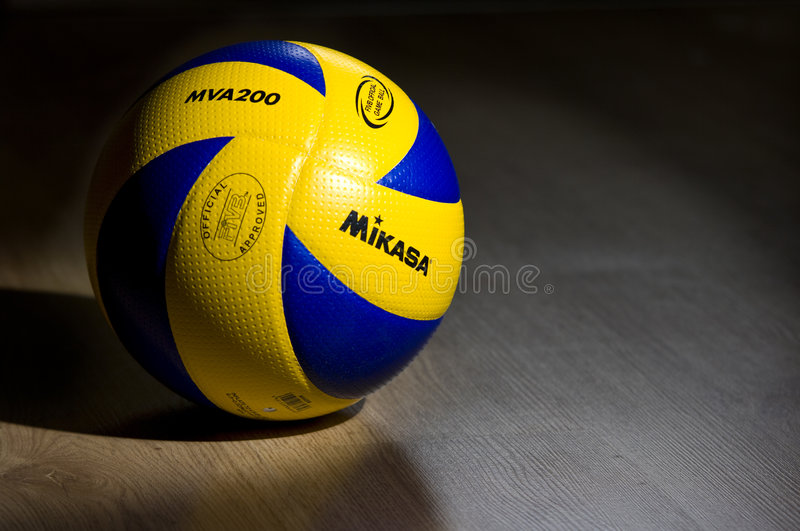volleyball: (78, 36, 475, 420)
